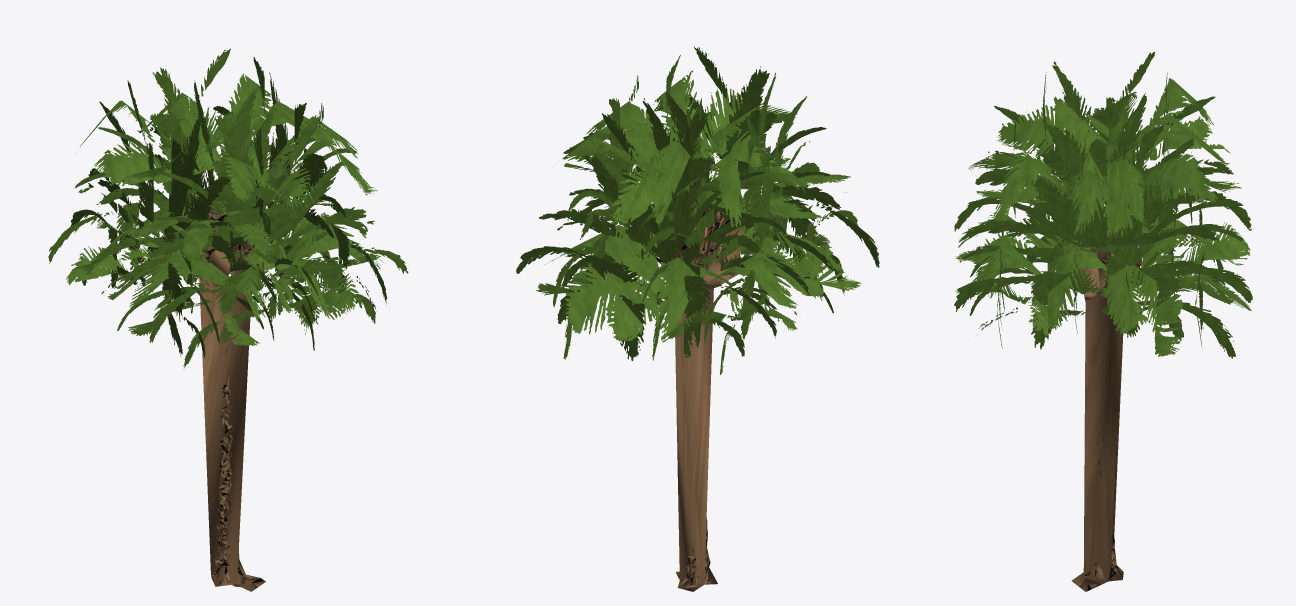
The model's file is palm-lean-far.glb.
3 views of the same model, side by side, from view 1: azimuth 30°, elevation 25°; view 2: azimuth 150°, elevation 25°; view 3: azimuth 270°, elevation 25° (orthographic). The views are drawn at different scales.
Parts seen in each view (by area): view 1: Foliage, Wood; view 2: Foliage, Wood; view 3: Foliage, Wood.
Part boxes in pixels (x1,y1,x2,y2): Foliage: (48, 48, 408, 369); Wood: (192, 205, 266, 591); Foliage: (516, 46, 879, 374); Wood: (656, 205, 742, 591); Foliage: (954, 51, 1252, 358); Wood: (1062, 206, 1142, 591).
Bounding box in the file's own units: 6.94 × 12.2 × 7.54.
2 materials, 2 textured.
